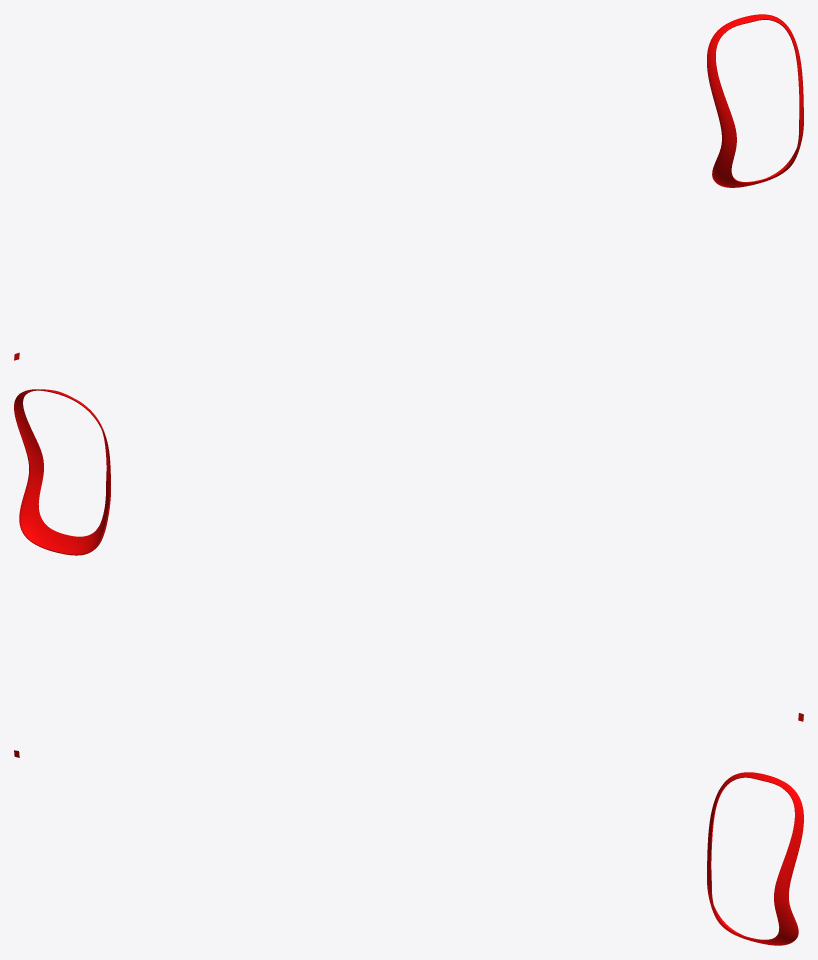
File: zatana_terra_base_vis_70.dae
3 renders of one model, top to bottom at view 1: azimuth 30°, elevation 25°; view 2: azimuth 150°, elevation 25°; view 3: azimuth 330°, elevation 25°, orthographic.
Visible parts, largest first — view 1: Node_000002318374B5A0; view 2: Node_000002318374B5A0; view 3: Node_000002318374B5A0.
Boxes of the visible parts, box(x1,y1,x2,y2) form: Node_000002318374B5A0: box(14, 14, 803, 360); Node_000002318374B5A0: box(14, 389, 803, 721); Node_000002318374B5A0: box(14, 750, 803, 945).
Bounding box in the file's own units: 0.5066 × 0.101 × 0.0251.
